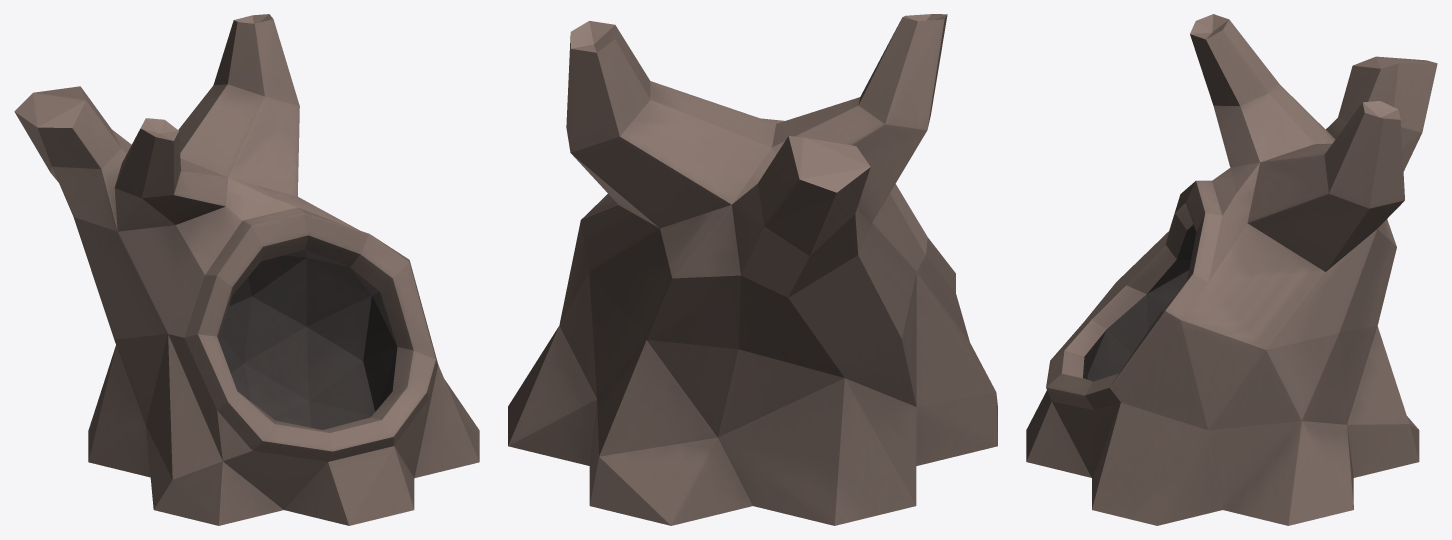
File: NiveauDesert_Ouvert.FBX
The picture shows the model from 3 angles, left to right: view 1: azimuth 30°, elevation 25°; view 2: azimuth 150°, elevation 25°; view 3: azimuth 270°, elevation 25°; orthographic projection. The views are drawn at different scales.
Visible parts, largest first — view 1: NiveauDesert_Ouvert; view 2: NiveauDesert_Ouvert; view 3: NiveauDesert_Ouvert.
Part boxes in pixels (x1,y1,x2,y2): NiveauDesert_Ouvert: [14, 14, 479, 525]; NiveauDesert_Ouvert: [508, 14, 997, 525]; NiveauDesert_Ouvert: [1026, 14, 1437, 525].
Bounding box in the file's own units: 2.56 × 2.65 × 2.72.
